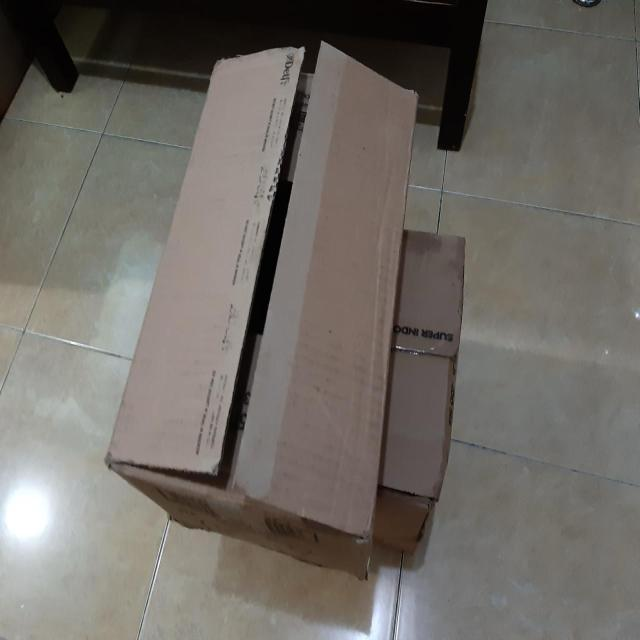Kardus: (104, 40, 464, 579), (227, 39, 419, 546), (104, 44, 306, 482)
